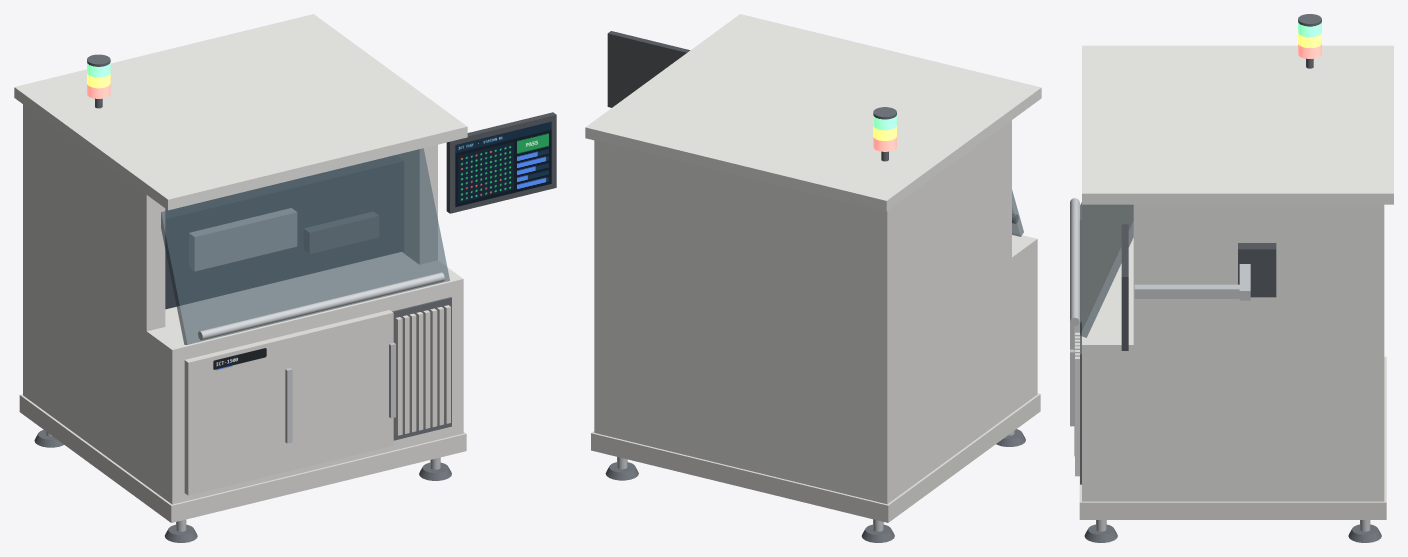
Rendered from ict_probe_test_machine.glb.
The picture shows the model from 3 angles, left to right: view 1: azimuth 30°, elevation 25°; view 2: azimuth 150°, elevation 25°; view 3: azimuth 270°, elevation 25°; orthographic projection.
Parts seen in each view (by area): view 1: ICT_Probe_Test_Machine; view 2: ICT_Probe_Test_Machine; view 3: ICT_Probe_Test_Machine.
Boxes of the visible parts, x1,y1,x2,y2 form: ICT_Probe_Test_Machine: (14,14,556,542); ICT_Probe_Test_Machine: (585,14,1041,542); ICT_Probe_Test_Machine: (1070,14,1393,542).
Size of the model in its own units: 1.99 by 1.85 by 1.35.
Materials: 13 (2 with a texture image).
